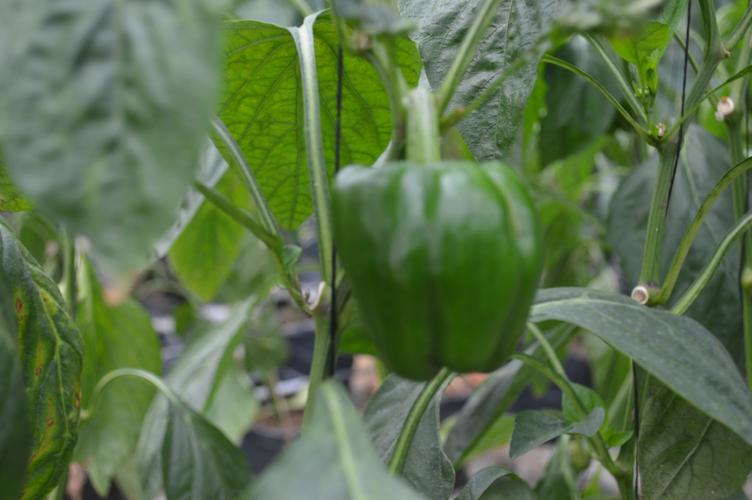BellPepper: (331, 161, 545, 373)
